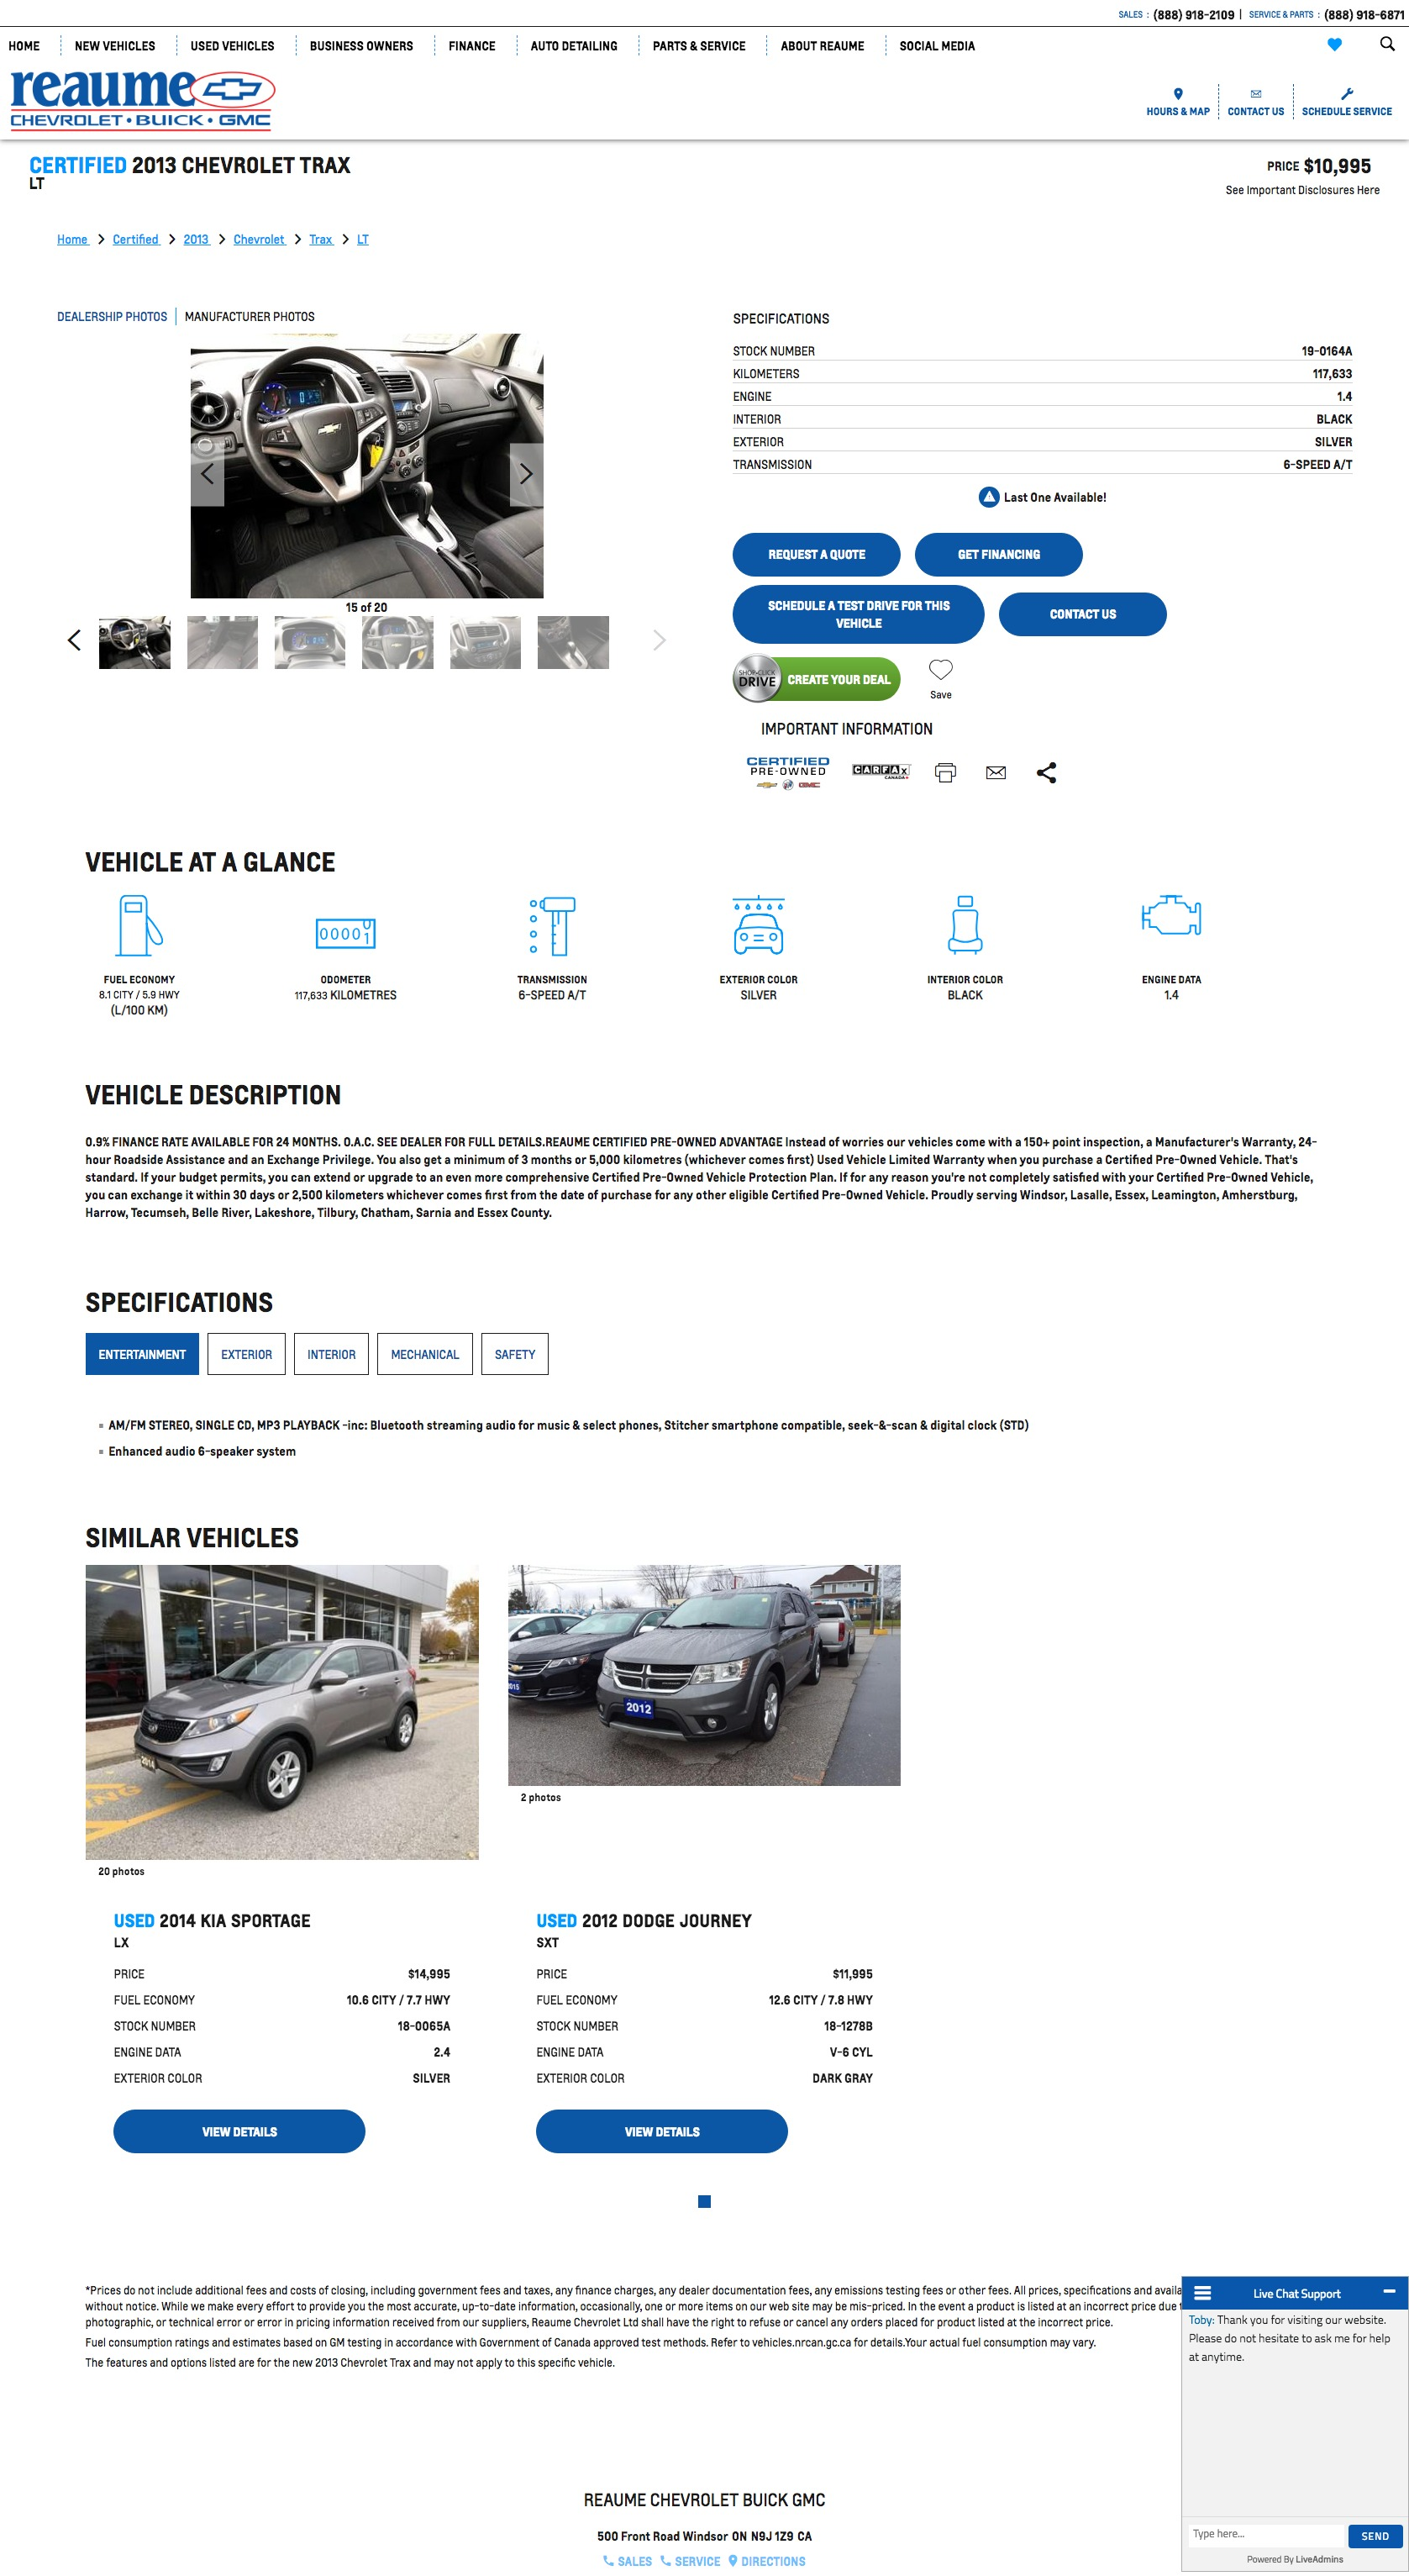car: (652, 630, 668, 653)
